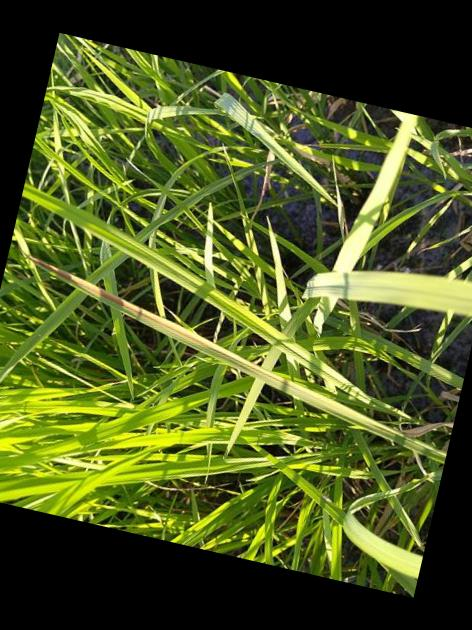Leaf Streak: (33, 258, 299, 394)
